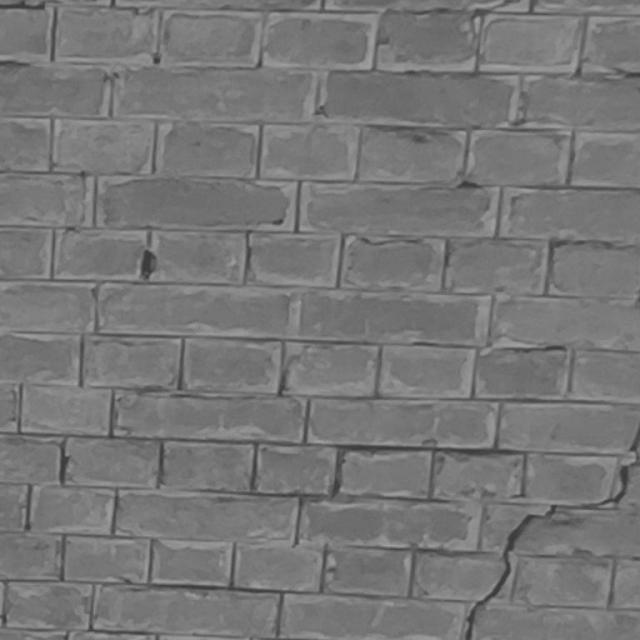crack: (465, 426, 639, 640)
